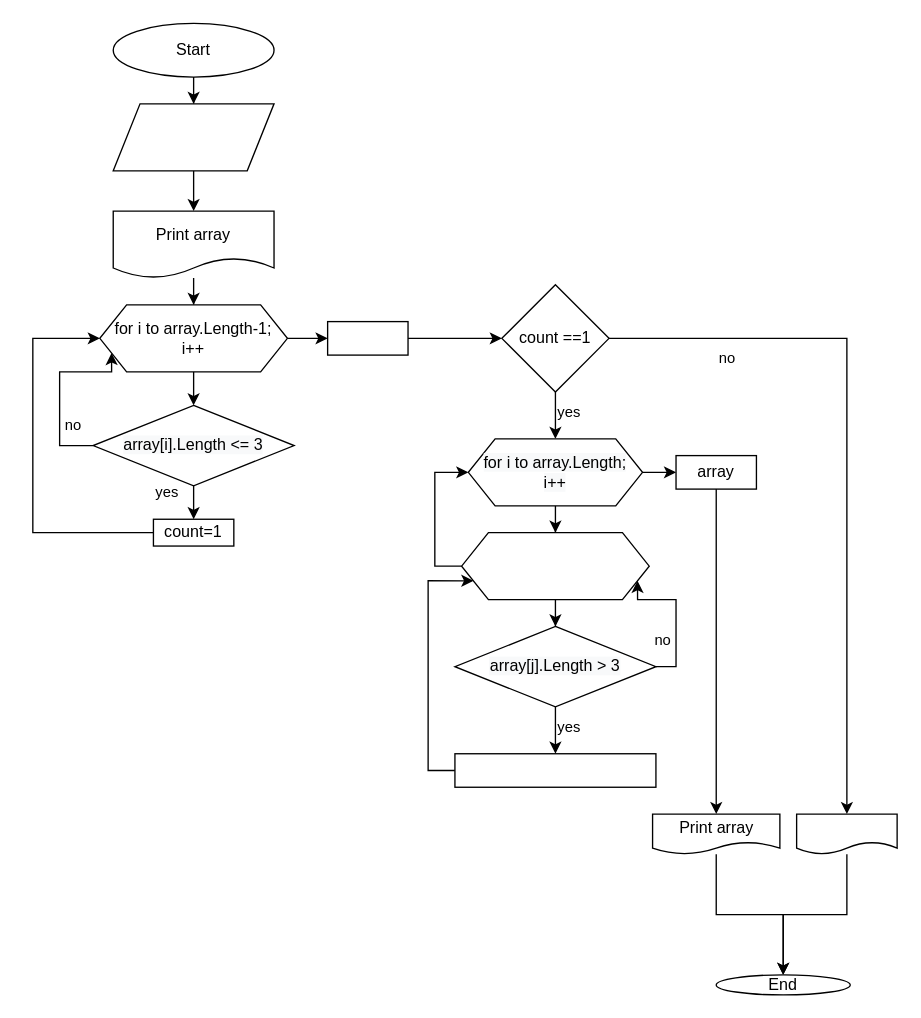
Image size: 921x1018. Some labels were removed from this diagram. The box of each missing label's shape, as (x1, y1, x2, y2) in pixels:
array Except { array[ j ] }: (454, 752, 656, 787)
array= [...]: count=0; i=0;: (112, 103, 274, 171)
count: (326, 320, 408, 355)
for j to array.Length-1; j++: (460, 531, 649, 600)
Print []: (795, 813, 897, 854)
